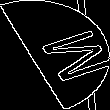M_SW: (11, 24, 99, 86)
